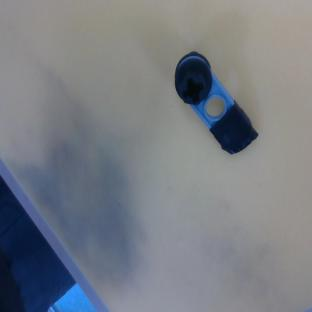part_1_bad: (162, 47, 261, 161)
